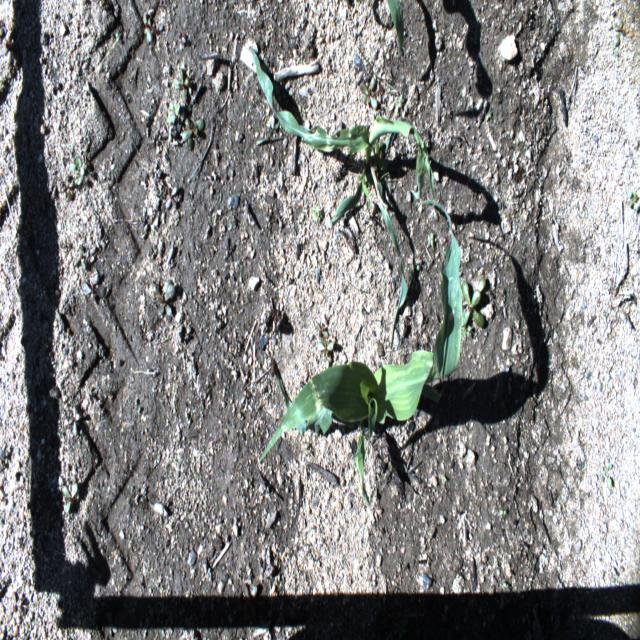crop: (256, 197, 463, 506), (246, 47, 435, 349), (384, 0, 404, 57)
weed: (460, 276, 488, 336), (152, 277, 177, 321), (180, 118, 206, 150), (171, 67, 192, 105), (317, 318, 333, 365), (359, 74, 378, 112), (62, 482, 79, 514), (68, 158, 85, 186), (165, 98, 182, 125), (626, 187, 640, 215), (142, 7, 152, 45), (614, 20, 626, 48), (602, 463, 614, 488)
